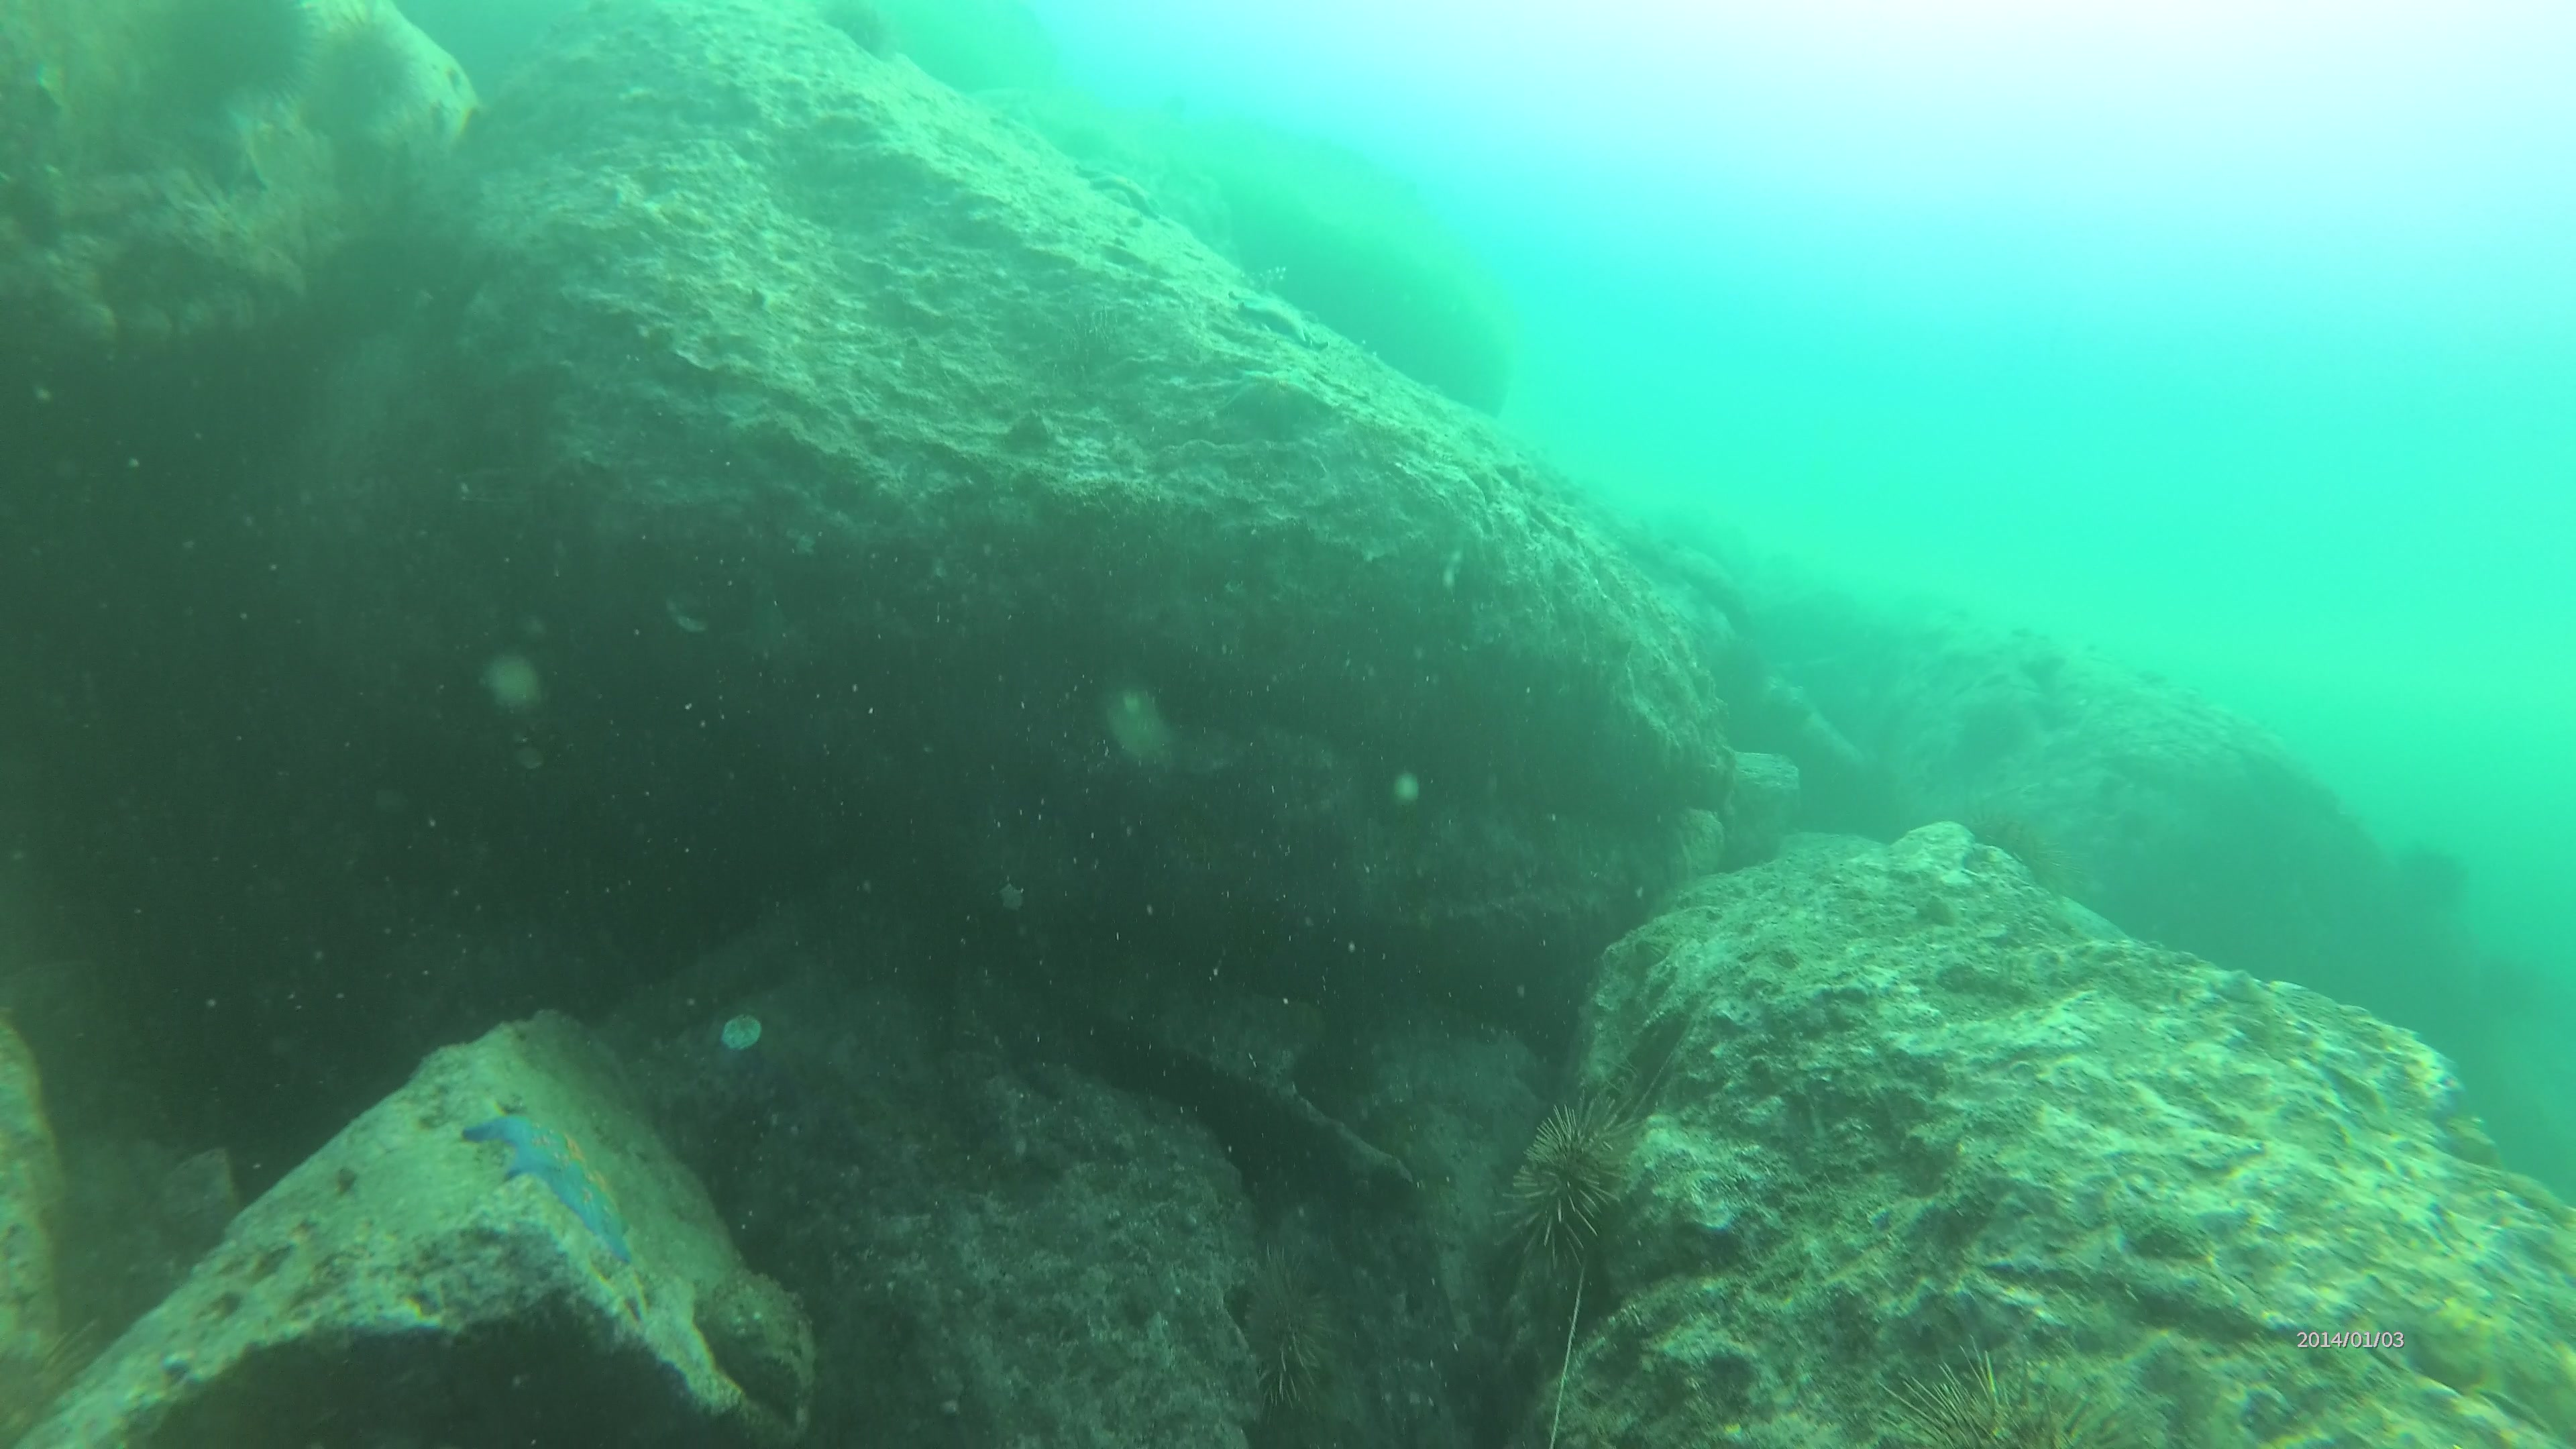echinus: (1874, 1369, 2118, 1449), (1522, 1097, 1633, 1253), (1231, 1246, 1343, 1396)
starfish: (464, 1108, 633, 1254)
